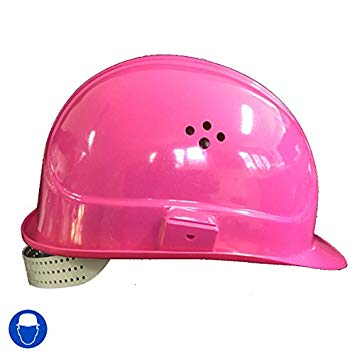elmetto: (14, 45, 352, 290)
